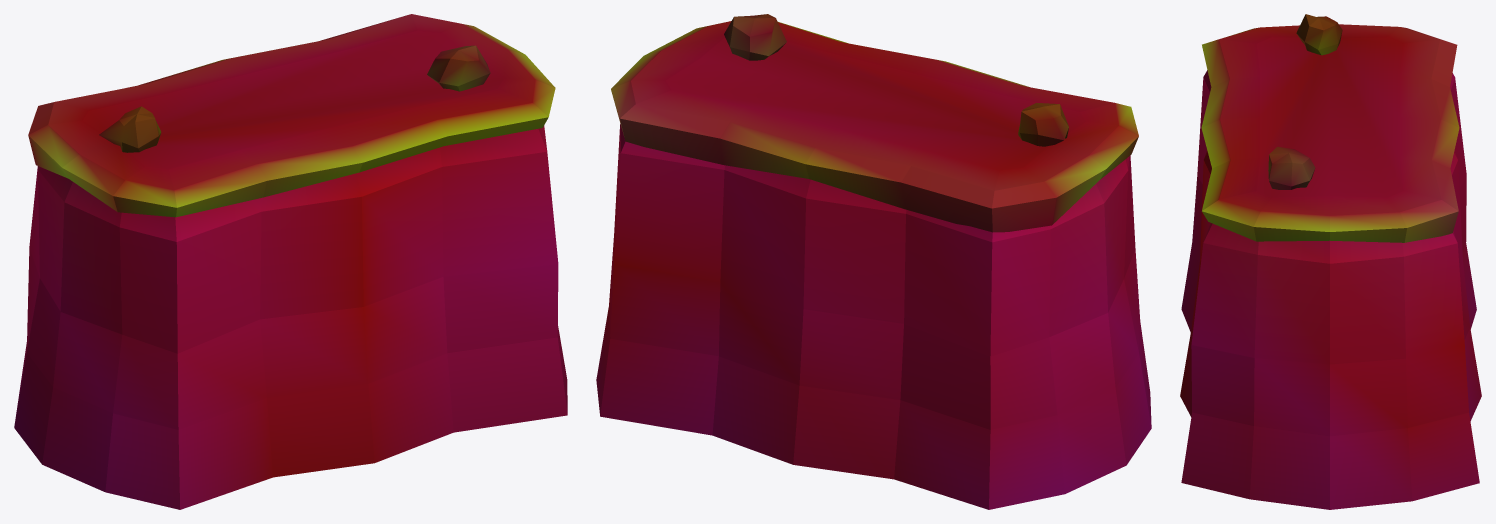
File: Cliff_Block_Wide.fbx
The picture shows the model from 3 angles, left to right: view 1: azimuth 30°, elevation 25°; view 2: azimuth 150°, elevation 25°; view 3: azimuth 270°, elevation 25°; orthographic projection. The views are drawn at different scales.
Parts seen in each view (by area): view 1: Cliff_Block_Wide; view 2: Cliff_Block_Wide; view 3: Cliff_Block_Wide.
Part boxes in pixels (box(x1,y1,x2,y2)): Cliff_Block_Wide: box(14, 14, 567, 509); Cliff_Block_Wide: box(596, 14, 1151, 509); Cliff_Block_Wide: box(1180, 14, 1481, 509).
Bounding box in the file's own units: 4.6 × 2.91 × 2.59.
